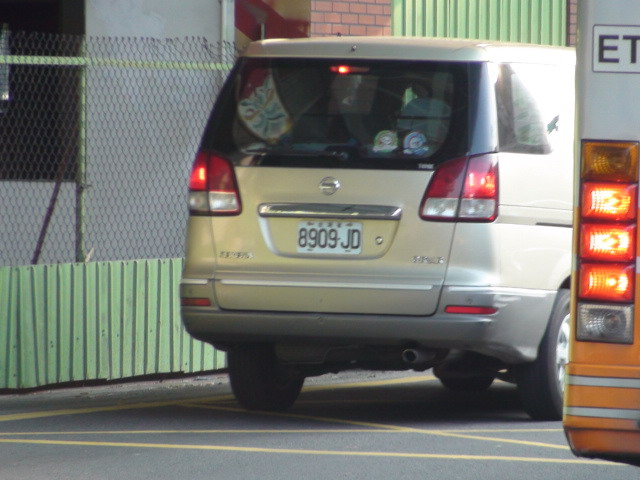plate: (294, 220, 365, 256)
